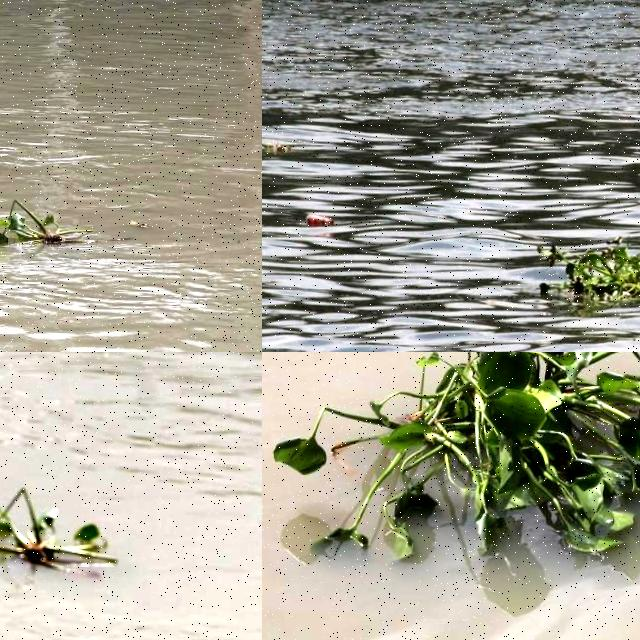water-hyacinth: (271, 353, 640, 597), (1, 476, 130, 585), (536, 232, 640, 319), (1, 197, 86, 256)
